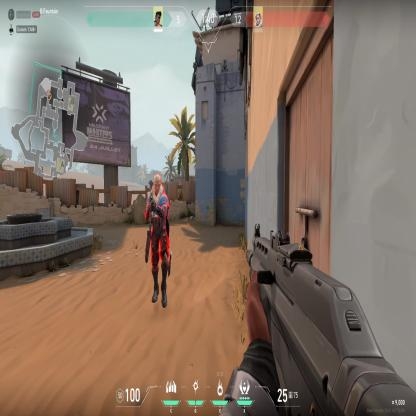enemy: (143, 171, 173, 312)
